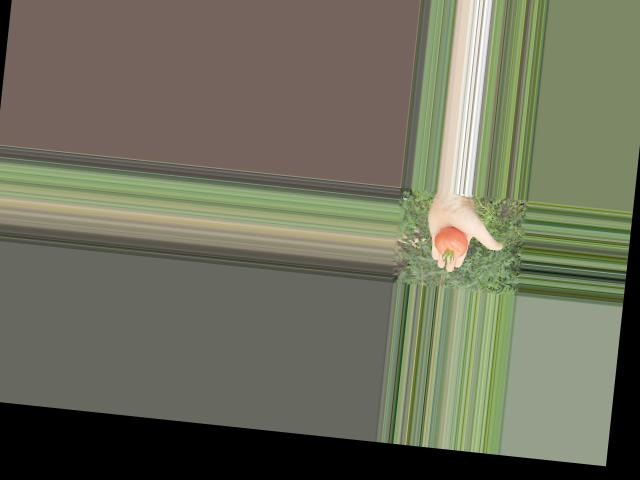tomato: (431, 225, 469, 258)
